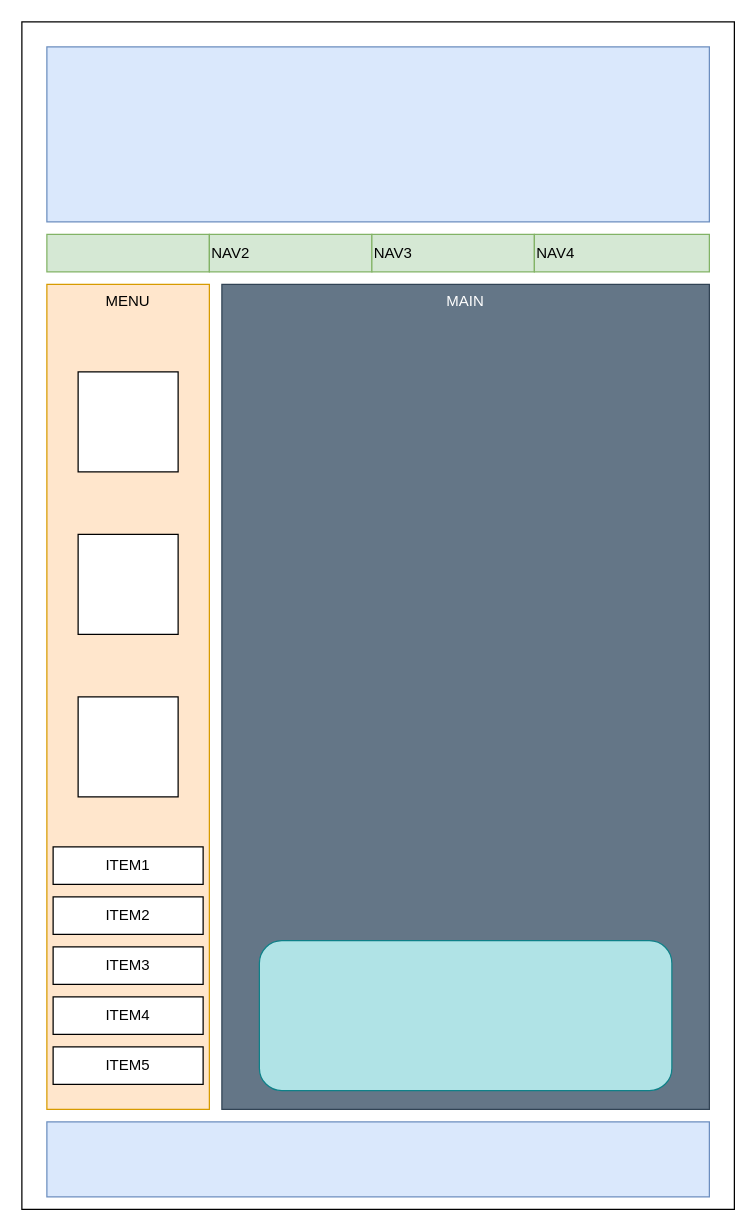
Some shapes in this 756 by 1231 pixel diagram are drawn without their labels. Each missing label, with the centre of its shape:
CAROUSEL: the point at 465,1015
FOOTER: the point at 377,1159
HEADER: the point at 377,134
NAV1: the point at 127,252
